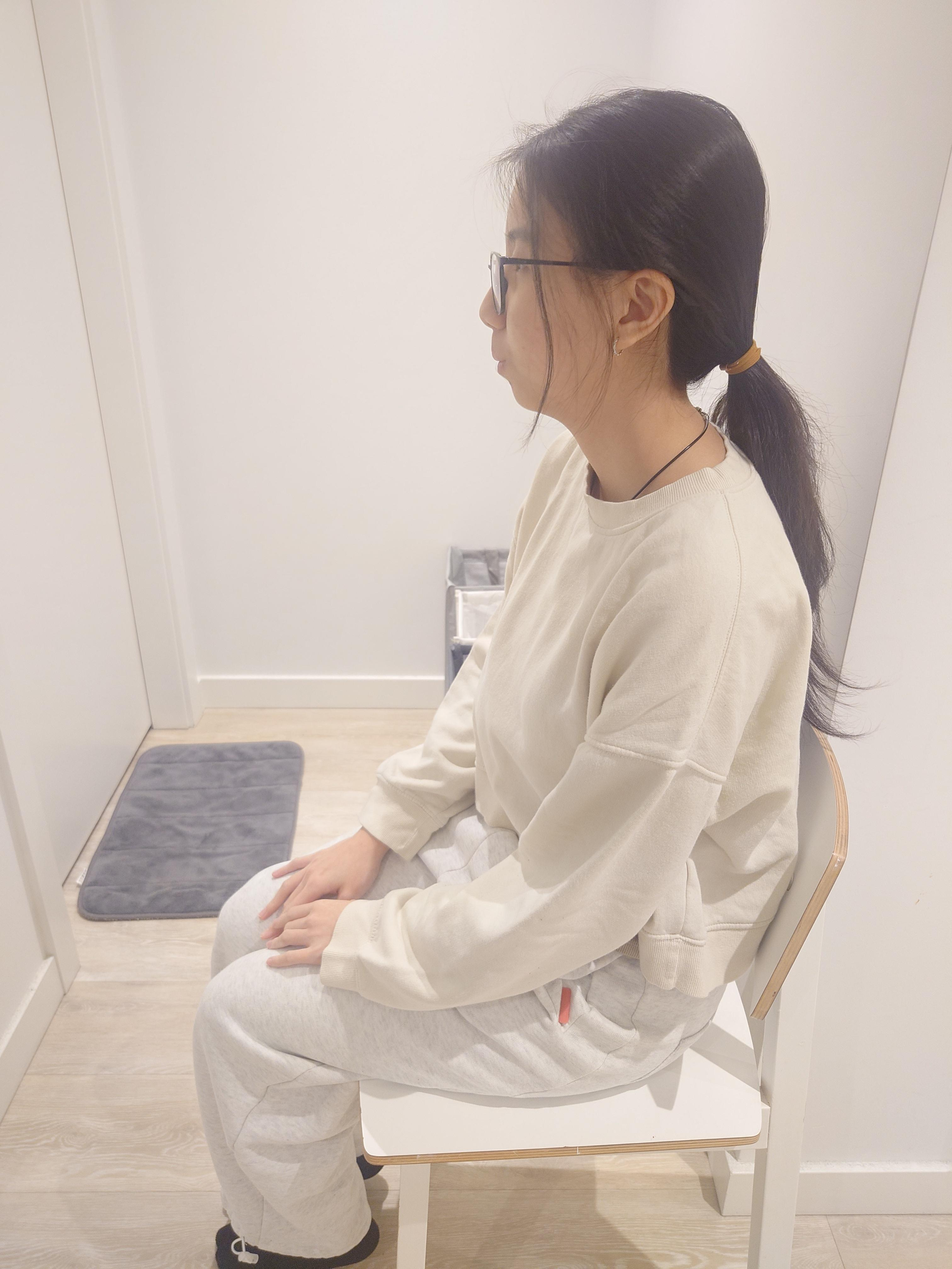GoodPosture: (191, 88, 815, 1269)
